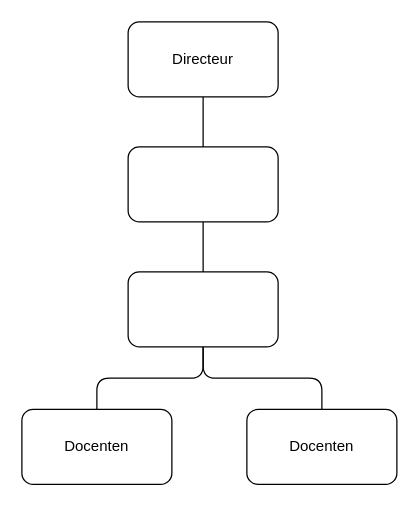
Image size: 419x506. Some labels were removed from this diagram. Each missing label, with the box of its shape:
Opleidingen: (127, 146, 278, 222)
Teamleiders: (127, 271, 278, 347)
